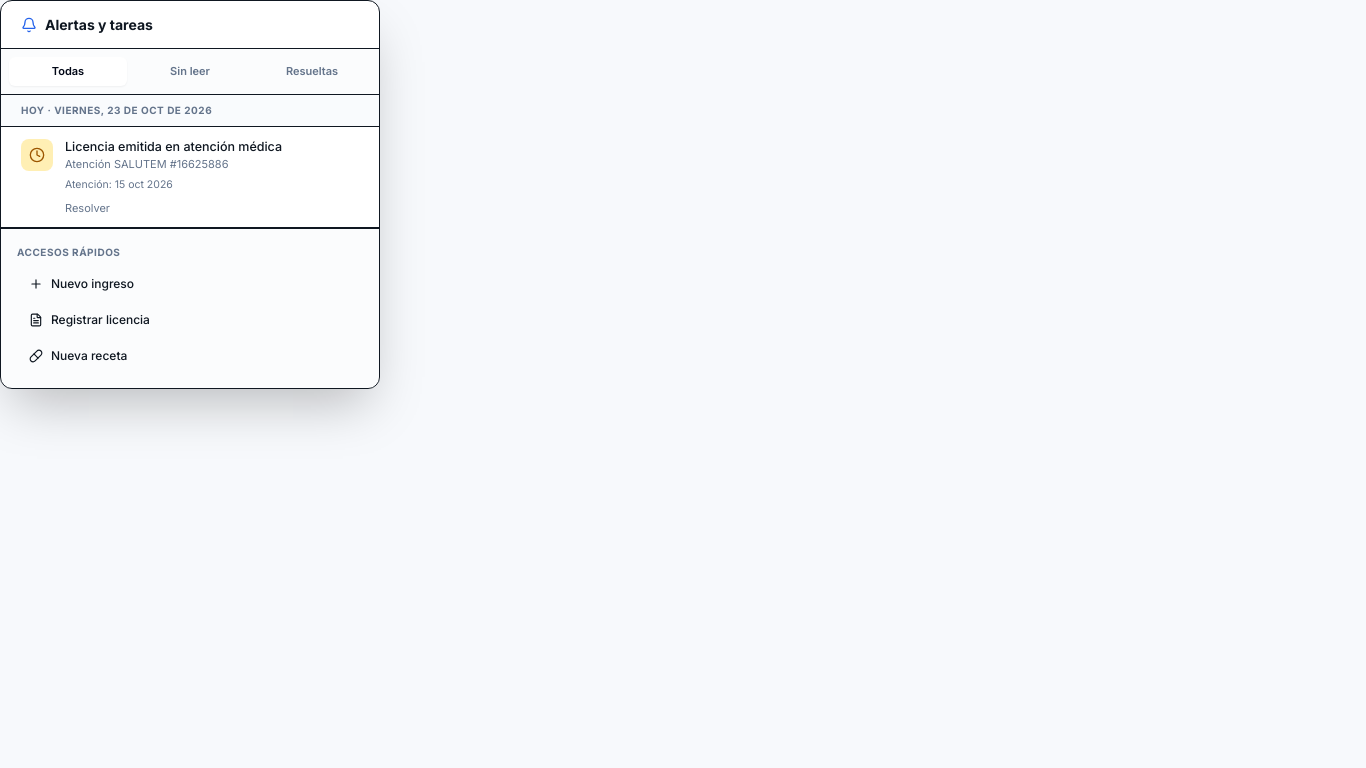
Test case: AlertsPanel: licencia emitida en una atención médica que no es control › se titula 'en atención médica' y abre la atención con su indicación y documentos
Expected: the text "Atención SALUTEM #16625886" is shown, 65,157 -> 228,171
Expected: the text "Atención: 15 oct 2026" is shown, 65,177 -> 173,192
Click the text "Licencia emitida en atención médica".
click(174, 146)  # box 65,138 -> 282,154
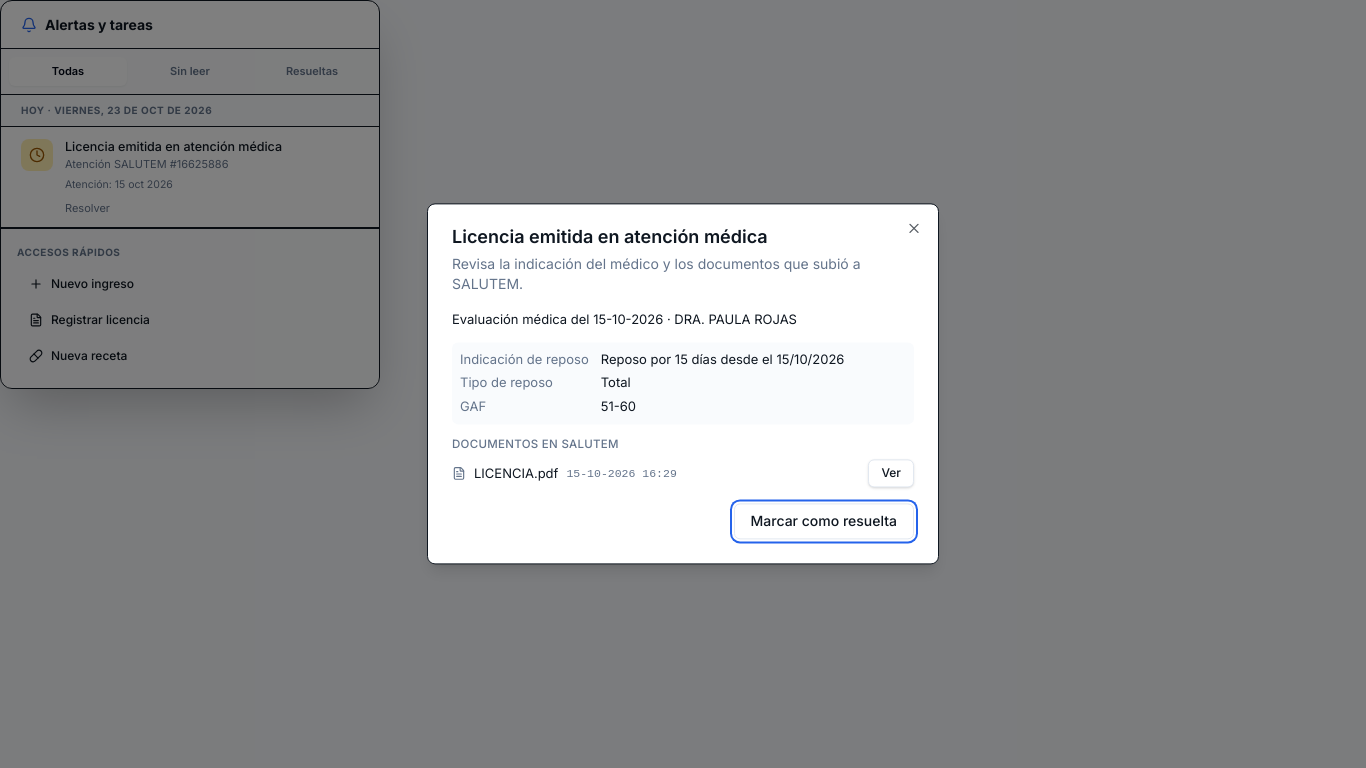
Expected: the text "Evaluación médica del 15-10-2026 · DRA. PAULA ROJAS" is shown, 452,311 -> 797,327
Expected: the text "Reposo por 15 días desde el 15/10/2026" is shown, 601,351 -> 844,367
Expected: the text "Total" is shown, 601,374 -> 631,390
